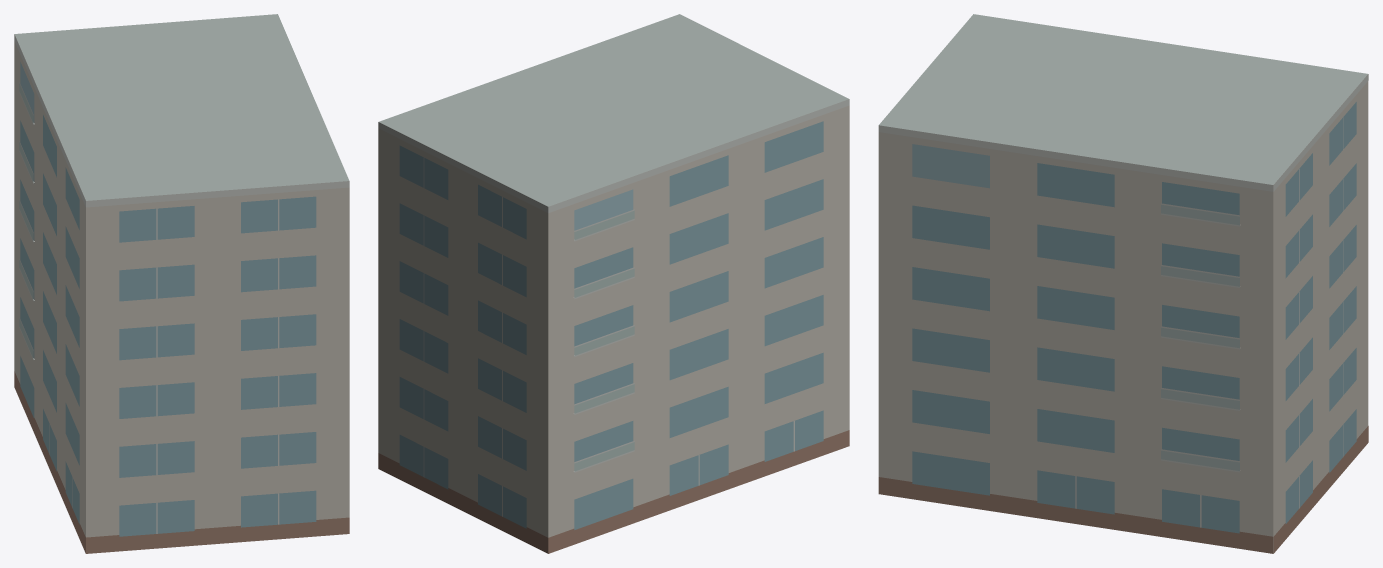
The model's file is survey-upis-33006387.glb.
3 views of the same model, side by side, from view 1: azimuth 30°, elevation 25°; view 2: azimuth 150°, elevation 25°; view 3: azimuth 270°, elevation 25° (orthographic). The views are drawn at different scales.
Parts seen in each view (by area): view 1: survey-upis-33006387.tmp; view 2: survey-upis-33006387.tmp; view 3: survey-upis-33006387.tmp.
Part boxes in pixels (box(x1,y1,x2,y2)): survey-upis-33006387.tmp: box(14, 14, 349, 553); survey-upis-33006387.tmp: box(378, 14, 849, 553); survey-upis-33006387.tmp: box(878, 14, 1368, 553).
Size of the model in its own units: 13.14 by 13.2 by 15.9.
